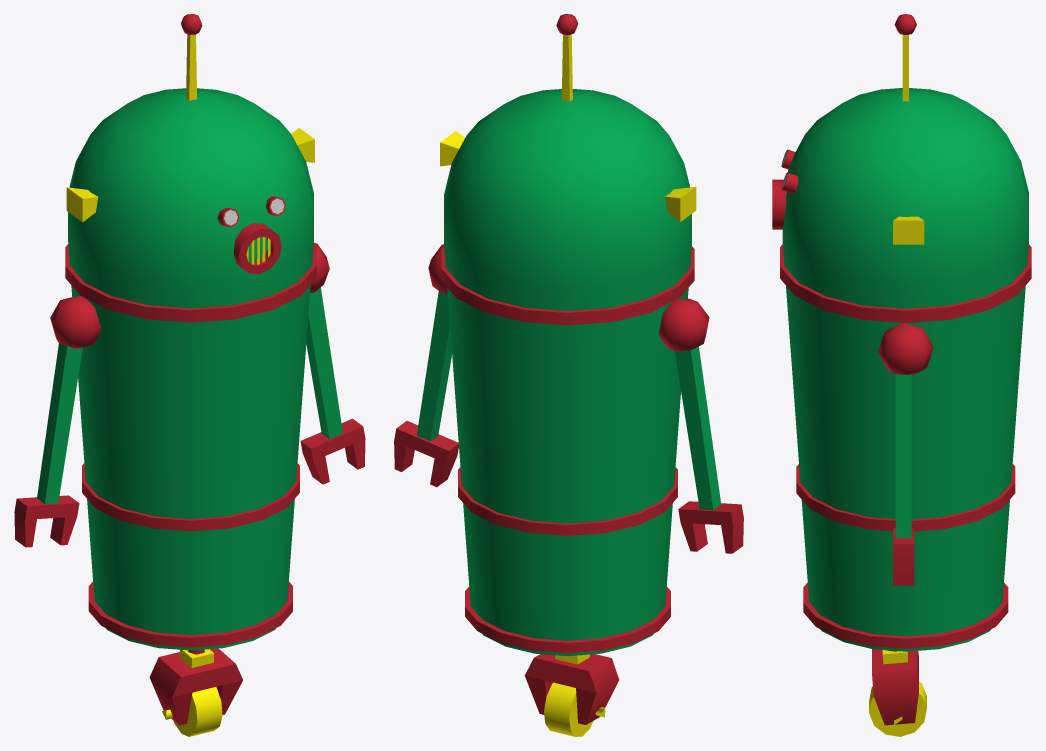
File: robot_02_mesh.FBX
3 renders of one model, left to right at view 1: azimuth 30°, elevation 25°; view 2: azimuth 150°, elevation 25°; view 3: azimuth 270°, elevation 25°, orthographic.
Parts seen in each view (by area): view 1: robot_02_body_mesh, robot_02_head_mesh, robot_02_rigth_arm_mesh, robot_02_left_arm_mesh, robot_02_whell_mesh; view 2: robot_02_body_mesh, robot_02_head_mesh, robot_02_rigth_arm_mesh, robot_02_left_arm_mesh, robot_02_whell_mesh; view 3: robot_02_body_mesh, robot_02_head_mesh, robot_02_left_arm_mesh, robot_02_whell_mesh.
Boxes of the visible parts, x1,y1,x2,y2 form: robot_02_body_mesh: [71, 285, 310, 725]; robot_02_head_mesh: [65, 14, 316, 322]; robot_02_rigth_arm_mesh: [14, 295, 100, 547]; robot_02_left_arm_mesh: [300, 242, 365, 484]; robot_02_whell_mesh: [173, 687, 222, 736]; robot_02_body_mesh: [447, 288, 688, 724]; robot_02_head_mesh: [440, 14, 696, 325]; robot_02_rigth_arm_mesh: [658, 298, 743, 553]; robot_02_left_arm_mesh: [394, 244, 458, 487]; robot_02_whell_mesh: [544, 682, 593, 736]; robot_02_body_mesh: [786, 286, 1025, 725]; robot_02_head_mesh: [772, 14, 1031, 322]; robot_02_left_arm_mesh: [878, 323, 933, 585]; robot_02_whell_mesh: [869, 681, 926, 736].
Bounding box in the file's own units: 131 × 265 × 87.
